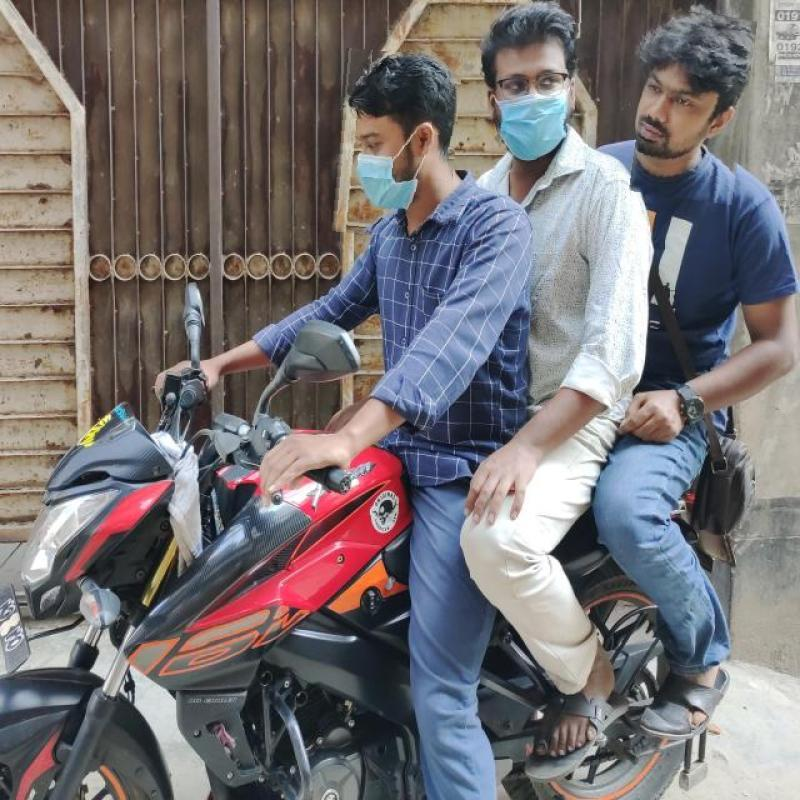nohelmet: (334, 50, 460, 240), (635, 10, 751, 202), (485, 24, 588, 172)
